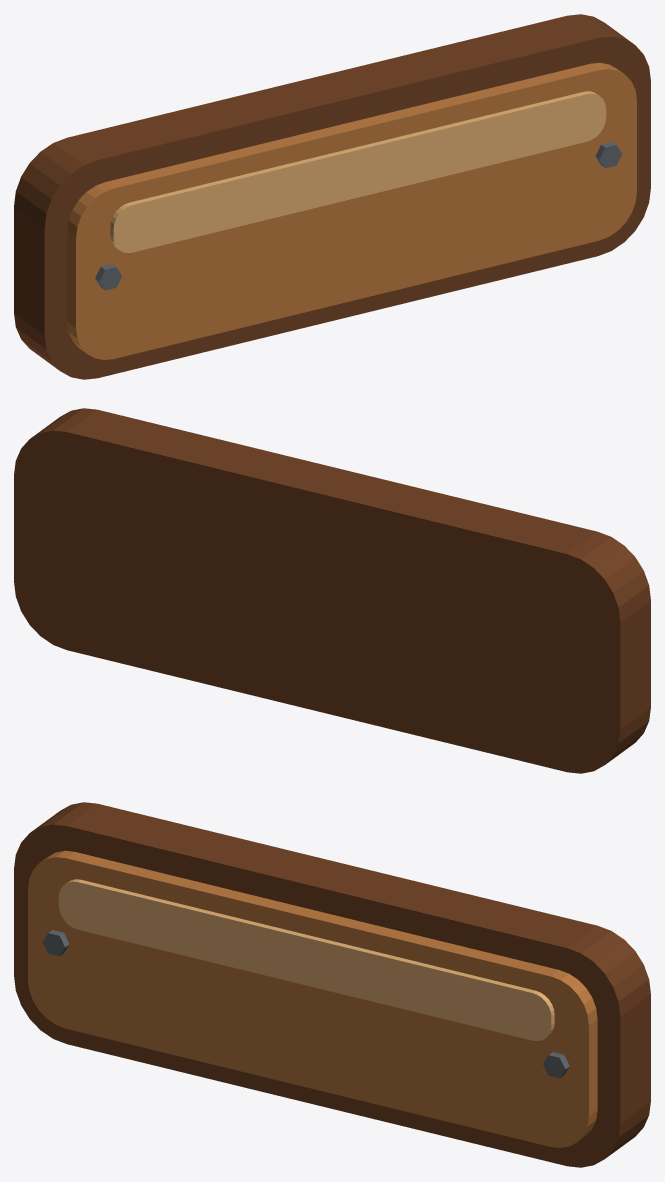
The model's file is boton_madera.glb.
The picture shows the model from 3 angles, top to bottom: view 1: azimuth 30°, elevation 25°; view 2: azimuth 150°, elevation 25°; view 3: azimuth 330°, elevation 25°; orthographic projection.
Parts seen in each view (by area): view 1: boton_madera_ui_madera, boton_madera_ui_madera_osc, boton_madera_ui_madera_clara, boton_madera_metal_osc; view 2: boton_madera_ui_madera_osc; view 3: boton_madera_ui_madera, boton_madera_ui_madera_osc, boton_madera_ui_madera_clara, boton_madera_metal_osc.
Boxes of the visible parts, x1,y1,x2,y2 form: boton_madera_ui_madera: (67,62,636,359); boton_madera_ui_madera_osc: (14,14,650,379); boton_madera_ui_madera_clara: (110,91,606,252); boton_madera_metal_osc: (95,142,622,290); boton_madera_ui_madera_osc: (14,408,650,773); boton_madera_ui_madera: (28,850,597,1147); boton_madera_ui_madera_osc: (14,802,650,1167); boton_madera_ui_madera_clara: (58,879,554,1040); boton_madera_metal_osc: (42,930,569,1078).
Bounding box in the file's own units: 1.6 × 0.55 × 0.2.
